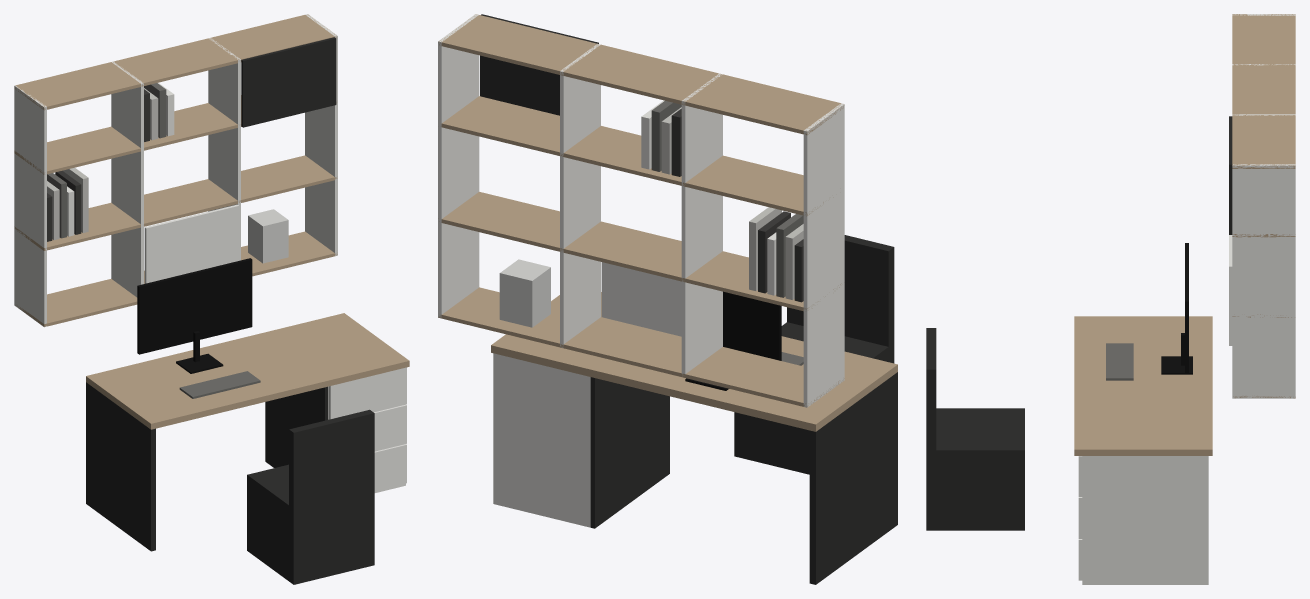
The model's file is escritorio.glb.
3 views of the same model, side by side, from view 1: azimuth 30°, elevation 25°; view 2: azimuth 150°, elevation 25°; view 3: azimuth 270°, elevation 25° (orthographic). The views are drawn at different scales.
Visible parts, largest first — view 1: escritorio; view 2: escritorio; view 3: escritorio.
Part boxes in pixels (<box>): escritorio: <box>14,14,409,584</box>; escritorio: <box>438,14,897,584</box>; escritorio: <box>926,14,1295,584</box>.
Bounding box in the file's own units: 1.82 × 2.35 × 1.87.
